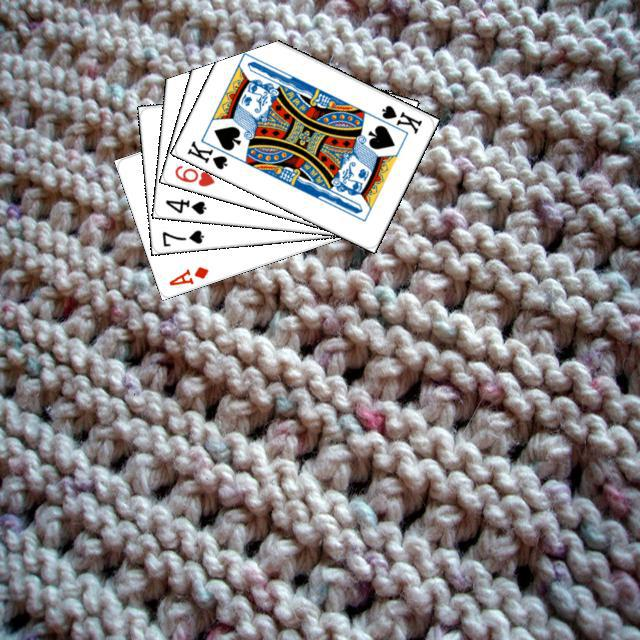4s: (161, 194, 208, 216)
6h: (170, 160, 216, 188)
7s: (157, 225, 206, 248)
Ad: (164, 261, 210, 288)
Ks: (369, 100, 423, 136), (182, 135, 229, 171)
